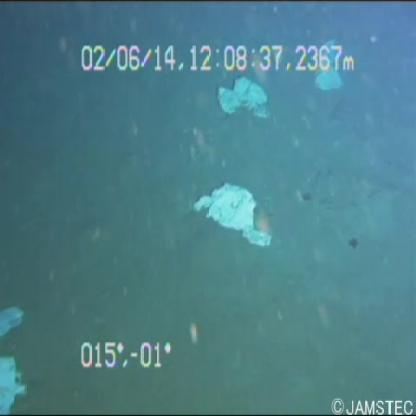Rác: (185, 160, 280, 256), (200, 69, 275, 119), (1, 291, 31, 414), (302, 28, 352, 95)
